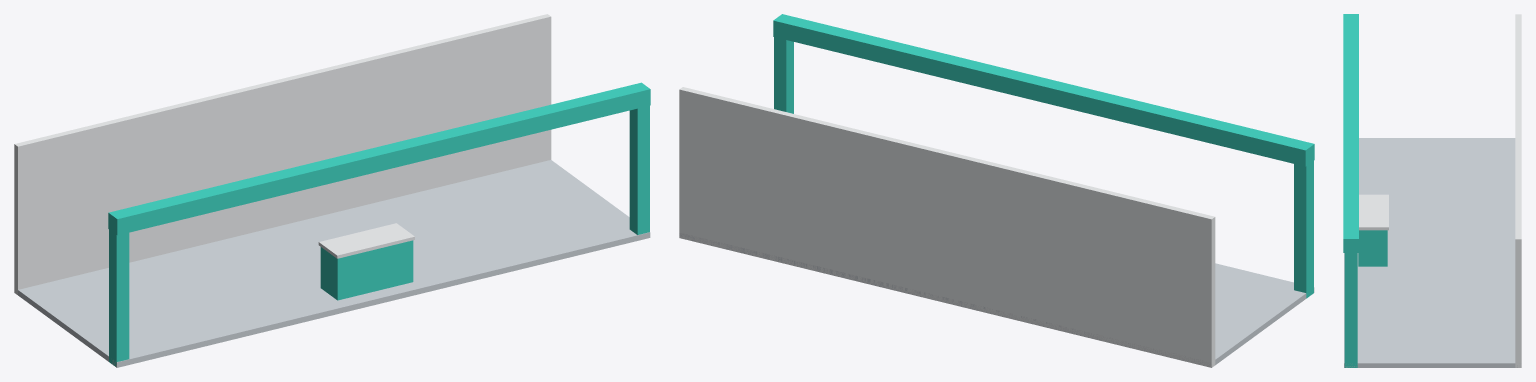
3 views of the same model, side by side, from view 1: azimuth 30°, elevation 25°; view 2: azimuth 150°, elevation 25°; view 3: azimuth 270°, elevation 25° (orthographic). The views are drawn at different scales.
Visible parts, largest first — view 1: Exhibition Booth Concept; view 2: Exhibition Booth Concept; view 3: Exhibition Booth Concept.
Part boxes in pixels (x1,y1,x2,y2): Exhibition Booth Concept: (14,14,650,367); Exhibition Booth Concept: (679,14,1314,367); Exhibition Booth Concept: (1343,14,1521,367).
Bounding box in the file's own units: 12 × 3.2 × 4.02.
